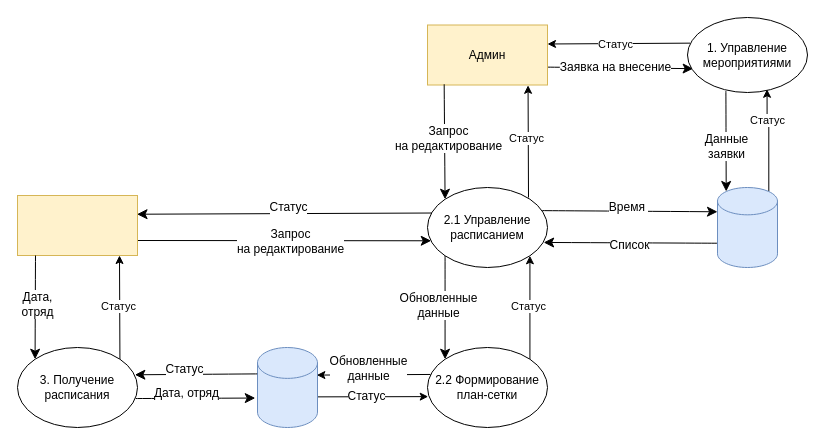
Some shapes in this 825 by 445 pixel diagram are drawn without their labels. Here are the shapes that lost their labels. From the top down, the centre of each, then its label:
the point at 77,225: Вожатый
the point at 747,227: Мероприятия
the point at 287,387: Отряды (расписания)
